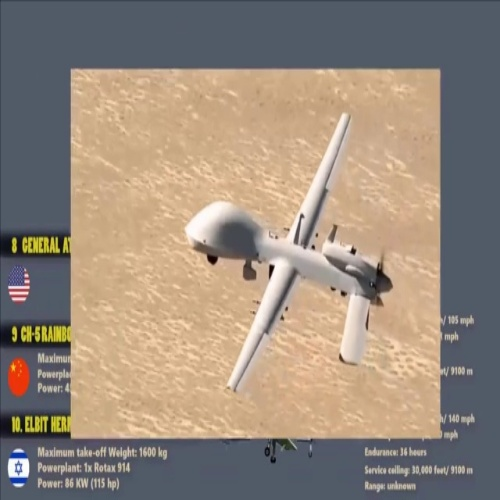uav811: (184, 102, 399, 394)
